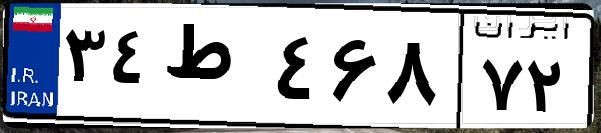2: (525, 38, 570, 115)
3: (57, 26, 110, 100)
4: (270, 28, 330, 110), (110, 28, 158, 98)
6: (330, 28, 385, 110)
7: (475, 38, 525, 113)
8: (385, 28, 445, 110)
ط: (158, 20, 270, 120)
